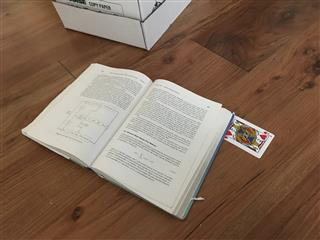JackOfHearts: (223, 114, 275, 158)
